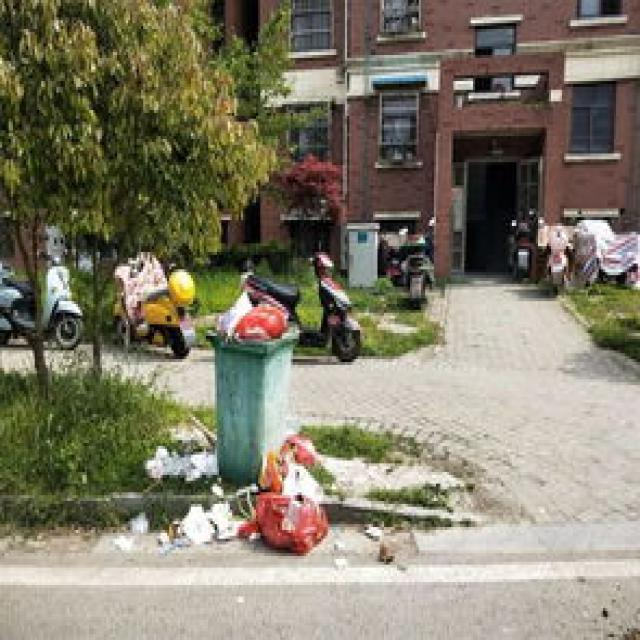garbage: (115, 411, 325, 553)
overflow: (204, 284, 297, 481)
